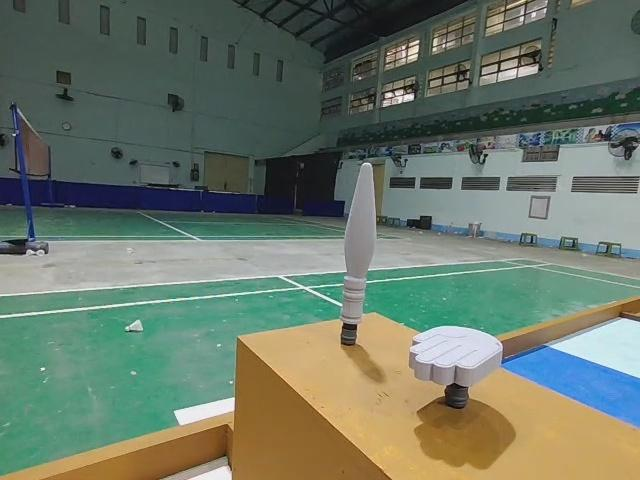Hand: (413, 318, 506, 412)
Sph: (336, 165, 379, 356)
